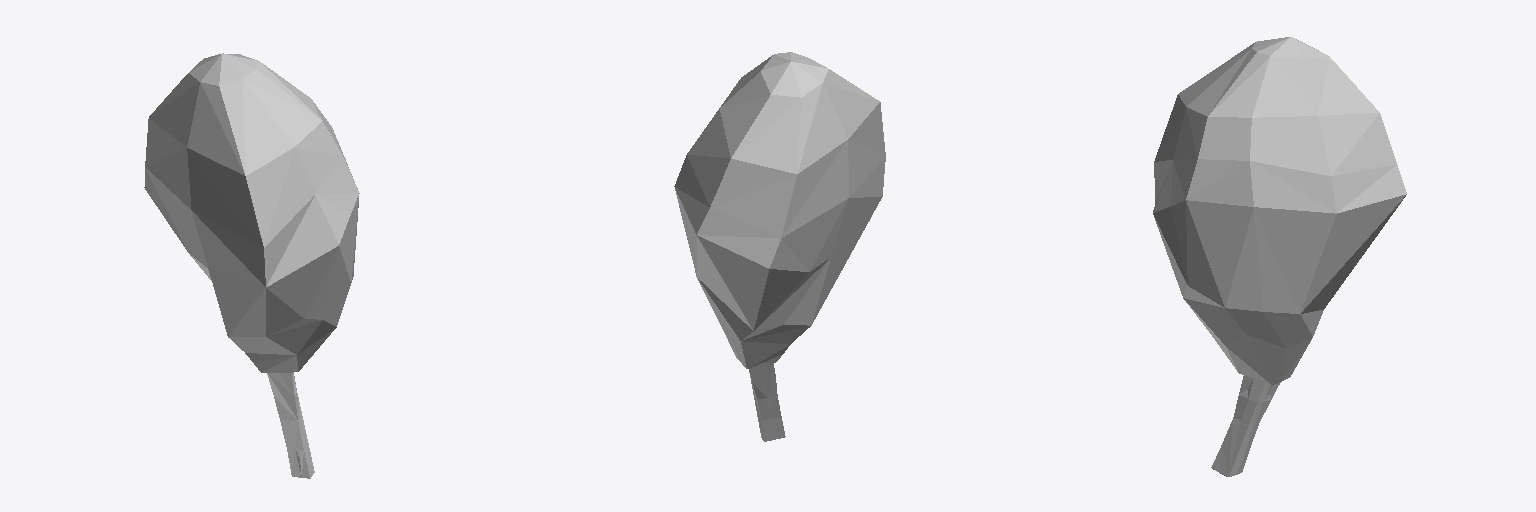
File: R_leg.obj
The picture shows the model from 3 angles: view 1: azimuth 30°, elevation 25°; view 2: azimuth 150°, elevation 25°; view 3: azimuth 270°, elevation 25°; orthographic projection.
Parts seen in each view (by area): view 1: polySurface500 polySurface494 polySurface492, polySurface498 polySurface18; view 2: polySurface500 polySurface494 polySurface492, polySurface498 polySurface18; view 3: polySurface500 polySurface494 polySurface492, polySurface498 polySurface18.
Boxes of the visible parts, <box> form: polySurface500 polySurface494 polySurface492: <box>144,53,359,372</box>; polySurface498 polySurface18: <box>267,372,314,478</box>; polySurface500 polySurface494 polySurface492: <box>674,52,885,368</box>; polySurface498 polySurface18: <box>749,363,785,441</box>; polySurface500 polySurface494 polySurface492: <box>1153,37,1406,385</box>; polySurface498 polySurface18: <box>1211,375,1280,476</box>.
Bounding box in the file's own units: 15.26 × 40.17 × 22.55.